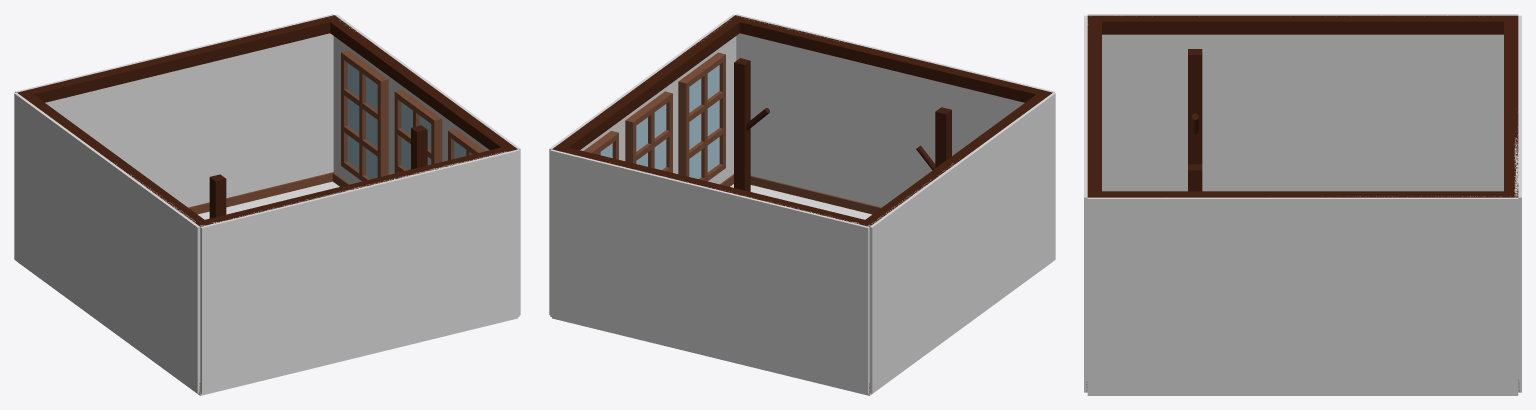
The model's file is Wolkamer.fbx.
3 views of the same model, side by side, from view 1: azimuth 30°, elevation 25°; view 2: azimuth 150°, elevation 25°; view 3: azimuth 270°, elevation 25° (orthographic). The views are drawn at different scales.
Parts seen in each view (by area): view 1: wolkamer; view 2: wolkamer; view 3: wolkamer.
Boxes of the visible parts, box(x1,y1,x2,y2) form: wolkamer: box(14, 14, 520, 395); wolkamer: box(549, 14, 1055, 395); wolkamer: box(1084, 14, 1521, 395).
Bounding box in the file's own units: 610 × 305 × 610.
